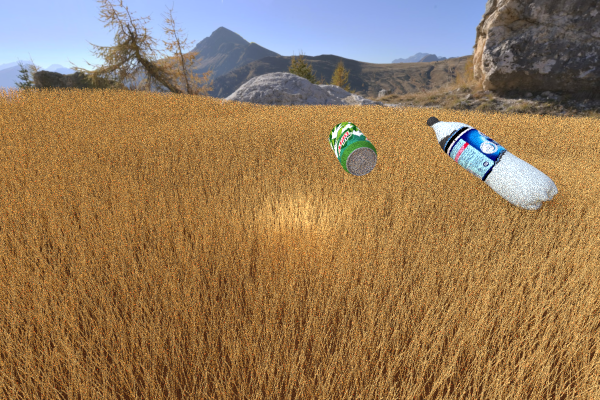Plastic Bottle: (426, 116, 557, 210), (328, 121, 377, 175), (207, 111, 257, 137)
